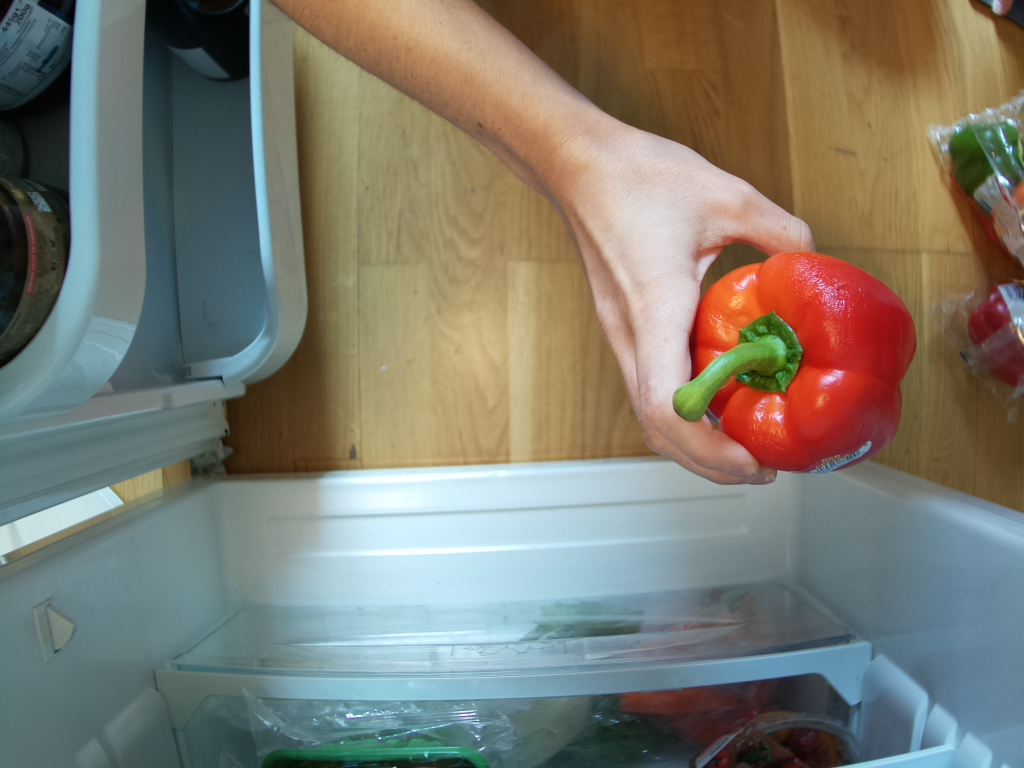pepper-bad: (669, 244, 922, 479)
